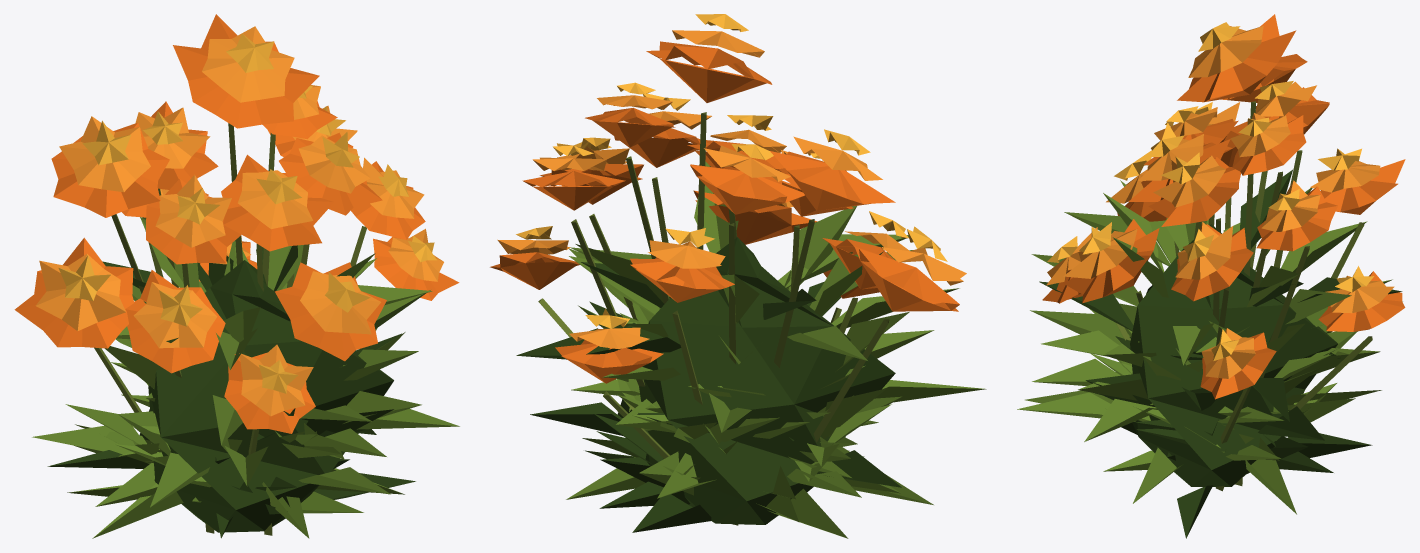
Rendered from marigold.glb.
The picture shows the model from 3 angles, left to right: view 1: azimuth 30°, elevation 25°; view 2: azimuth 150°, elevation 25°; view 3: azimuth 270°, elevation 25°; orthographic projection. The views are drawn at different scales.
Parts seen in each view (by area): view 1: blooms_orange, blooms_amber, leaves_dark, leaves_green, blooms_gold, stems; view 2: leaves_dark, blooms_orange, leaves_green, blooms_amber, stems, blooms_gold; view 3: leaves_dark, leaves_green, blooms_orange, blooms_amber, blooms_gold, stems.
Part boxes in pixels (left/top/right/bottom): blooms_orange: left=14, top=14, right=459, bottom=433; blooms_amber: left=35, top=26, right=443, bottom=416; leaves_dark: left=47, top=245, right=415, bottom=538; leaves_green: left=32, top=217, right=459, bottom=538; blooms_gold: left=58, top=33, right=436, bottom=393; stems: left=94, top=123, right=377, bottom=535; leaves_dark: left=516, top=237, right=901, bottom=532; blooms_orange: left=490, top=41, right=959, bottom=383; leaves_green: left=566, top=161, right=986, bottom=538; blooms_amber: left=497, top=30, right=966, bottom=349; stems: left=538, top=112, right=889, bottom=525; blooms_gold: left=516, top=14, right=947, bottom=328; leaves_dark: left=1039, top=169, right=1402, bottom=538; leaves_green: left=1017, top=180, right=1402, bottom=514; blooms_orange: left=1042, top=14, right=1405, bottom=399; blooms_amber: left=1046, top=26, right=1394, bottom=378; blooms_gold: left=1047, top=22, right=1373, bottom=360; stems: left=1116, top=101, right=1372, bottom=491.
Size of the model in its own units: 0.3062 by 0.315 by 0.2461.
